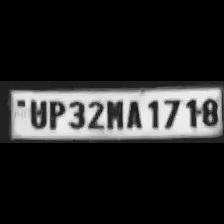1: (180, 96, 200, 130), (144, 96, 160, 130)
2: (84, 98, 104, 130)
3: (65, 97, 85, 129)
7: (158, 96, 182, 130)
8: (199, 94, 219, 128)
A: (124, 96, 144, 130)
M: (104, 96, 124, 130)
P: (45, 97, 65, 128)
U: (25, 97, 47, 128)
